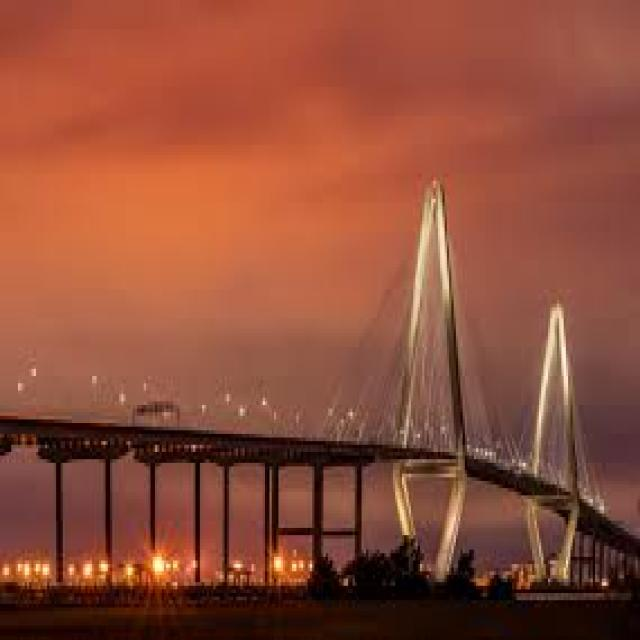Bridges: (4, 95, 640, 589)
